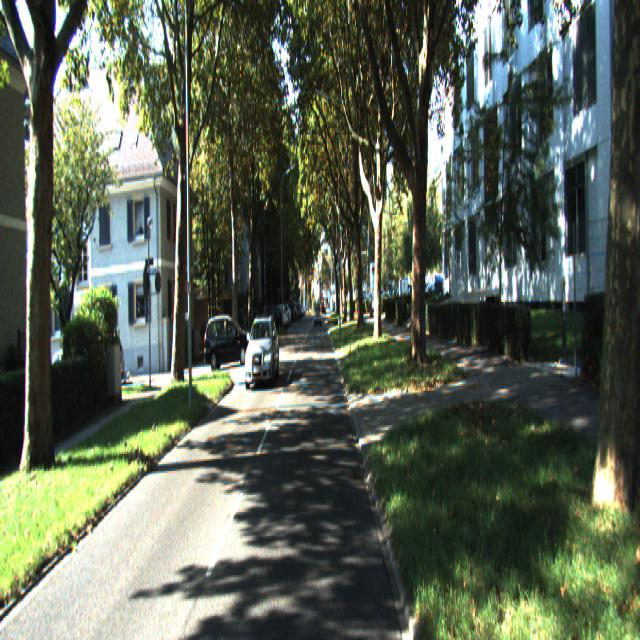Car: (204, 313, 256, 370), (244, 318, 280, 392)
